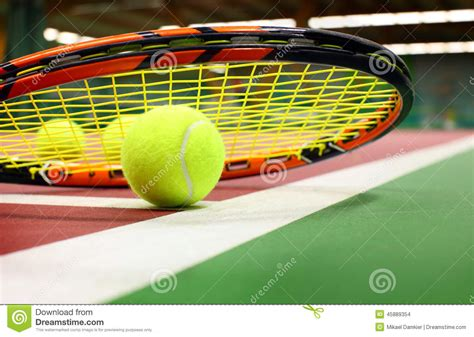tennis_ball: (121, 104, 226, 208), (34, 117, 85, 163), (102, 116, 133, 161)
